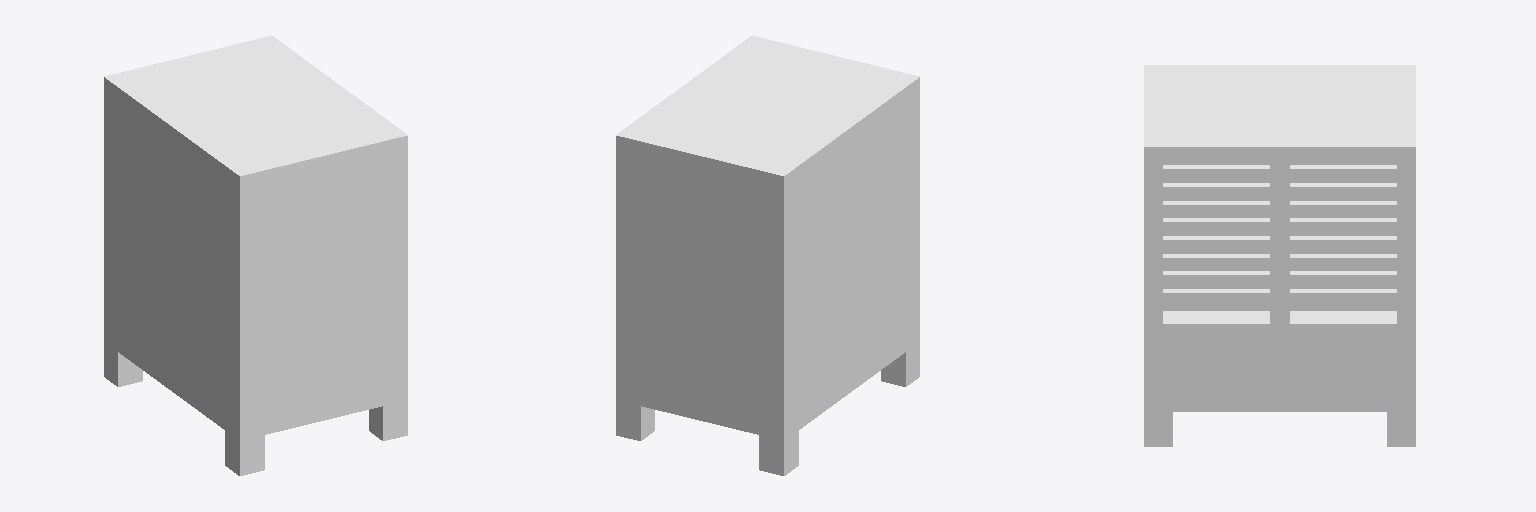
File: alley_assets-12.obj
The picture shows the model from 3 angles: view 1: azimuth 30°, elevation 25°; view 2: azimuth 150°, elevation 25°; view 3: azimuth 270°, elevation 25°; orthographic projection.
Visible parts, largest first — view 1: object 1; view 2: object 1; view 3: object 1.
Part boxes in pixels (left/top/right/bottom): object 1: left=104, top=36, right=407, bottom=475; object 1: left=616, top=36, right=919, bottom=475; object 1: left=1144, top=65, right=1415, bottom=446.
Size of the model in its own units: 2 by 3.4 by 2.8.